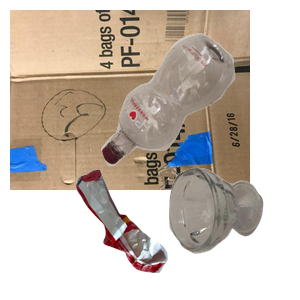cardboard: (10, 10, 250, 190)
glass: (166, 165, 300, 300)
plastic: (99, 31, 300, 189)
trash: (74, 167, 235, 300)
